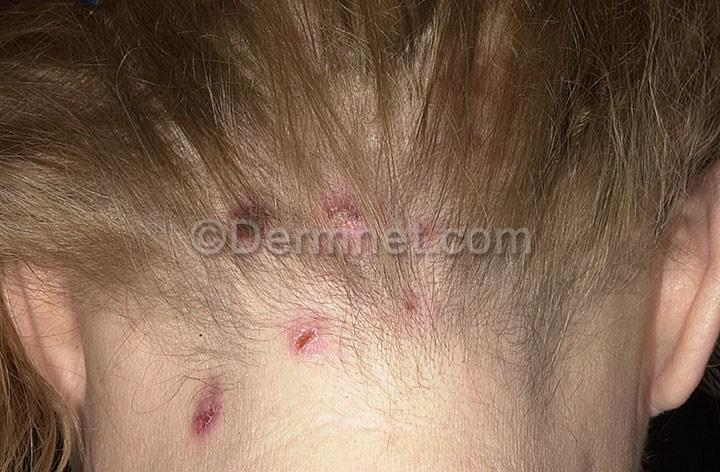Eczema: (209, 186, 288, 261), (176, 376, 239, 448), (307, 182, 380, 241), (400, 213, 468, 273), (274, 312, 341, 372), (385, 282, 426, 338)
